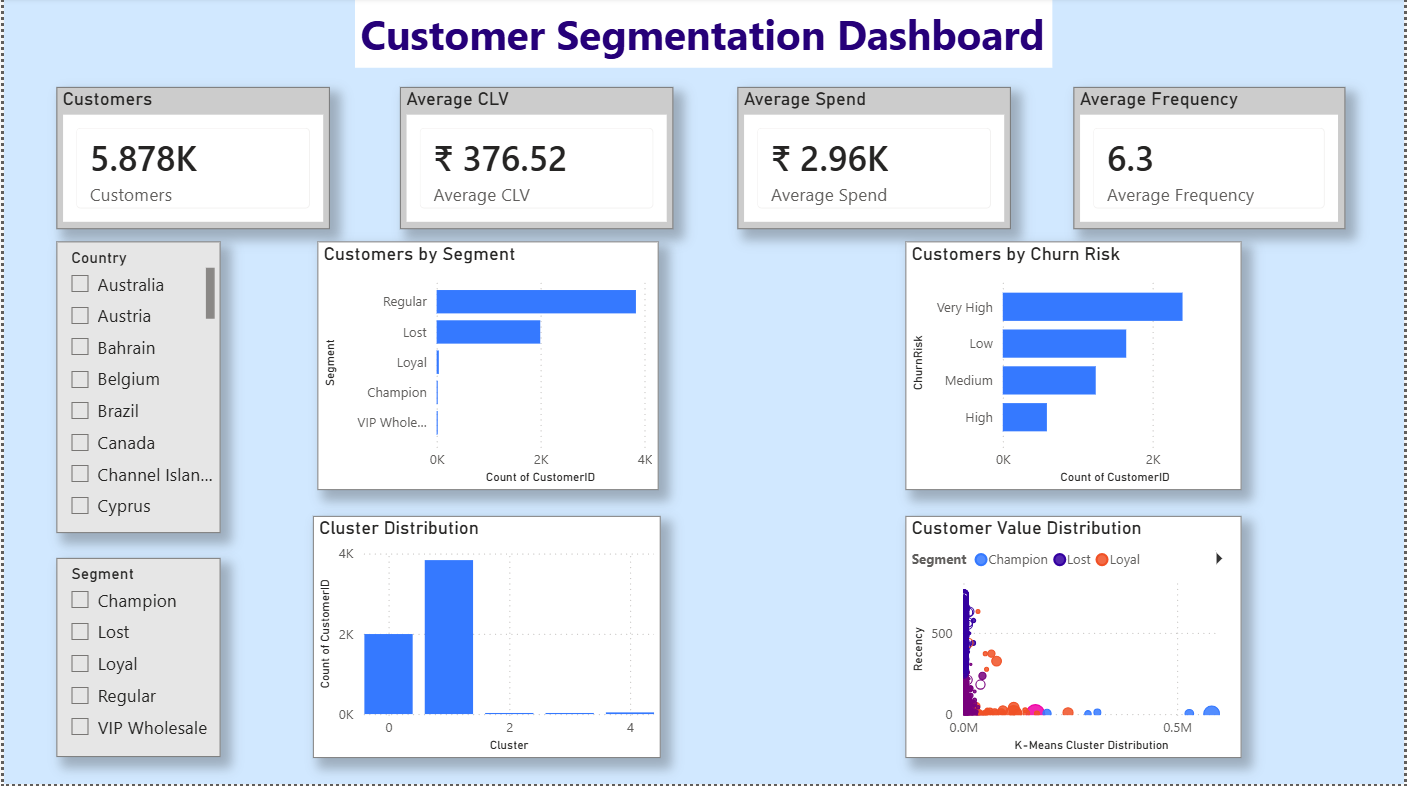

The dashboard page shown, as its layout file describes it:
{"tool":"powerbi","page":{"name":"Segmentation Dashboard","canvas":[1280,720],"ordinal":1},"visuals":[{"type":"cardVisual","title":"Customers","fields":{"Data":["Count(customer_segments.CustomerID)"]},"box":[48.5,81.8,250,130.3],"z":0},{"type":"cardVisual","title":"Average CLV","fields":{"Data":["Avg(customer_segments.CustomerLifetimeValue)"]},"box":[362.1,81.8,250,130.3],"z":1000},{"type":"cardVisual","title":"Average Spend","fields":{"Data":["Avg(customer_segments.Monetary)"]},"box":[671.2,81.8,250,130.3],"z":2000},{"type":"cardVisual","title":"Average Frequency","fields":{"Data":["Avg(customer_segments.Frequency)"]},"box":[978.8,81.8,248.5,130.3],"z":3000},{"type":"clusteredBarChart","title":"Customers by Segment","fields":{"Category":["customer_segments.Segment"],"Y":["CountNonNull(customer_segments.CustomerID)"]},"box":[286.4,224.2,312.1,227.3],"z":4000},{"type":"clusteredColumnChart","title":"Cluster Distribution","fields":{"Category":["customer_segments.Cluster"],"Y":["CountNonNull(customer_segments.CustomerID)"]},"box":[283.3,474.2,318.2,221.2],"z":5000},{"type":"clusteredBarChart","title":"Customers by Churn Risk","fields":{"Category":["customer_segments.ChurnRisk"],"Y":["CountNonNull(customer_segments.CustomerID)"]},"box":[824.2,224.2,307.6,227.3],"z":6000},{"type":"textbox","box":[321.2,3,637.9,62.1],"z":7000},{"type":"slicer","fields":{"Values":["customer_segments.Country"]},"box":[48.5,224.2,150,266.7],"z":8000},{"type":"slicer","fields":{"Values":["customer_segments.Segment"]},"box":[48.5,513.6,150,181.8],"z":9000},{"type":"scatterChart","title":"Customer Value Distribution","fields":{"X":["Avg(customer_segments.Monetary)"],"Y":["Avg(customer_segments.Recency)"],"Series":["customer_segments.Segment"],"Size":["Avg(customer_segments.CustomerLifetimeValue)"],"Category":["customer_segments.CustomerID"]},"box":[824.2,474.2,307.6,221.2],"z":10000}]}

Visuals, with their boxes in screenshot pixels (x1, y1, x2, y2), scaled from the page's 1280x720 canvas onto the 1407x786 screenshot:
"Customers" cardVisual: {"left": 53, "top": 89, "right": 328, "bottom": 232}
"Average CLV" cardVisual: {"left": 398, "top": 89, "right": 673, "bottom": 232}
"Average Spend" cardVisual: {"left": 738, "top": 89, "right": 1013, "bottom": 232}
"Average Frequency" cardVisual: {"left": 1076, "top": 89, "right": 1349, "bottom": 232}
"Customers by Segment" clusteredBarChart: {"left": 315, "top": 245, "right": 658, "bottom": 493}
"Cluster Distribution" clusteredColumnChart: {"left": 311, "top": 518, "right": 661, "bottom": 759}
"Customers by Churn Risk" clusteredBarChart: {"left": 906, "top": 245, "right": 1244, "bottom": 493}
textbox: {"left": 353, "top": 3, "right": 1054, "bottom": 71}
slicer - customer_segments.Country: {"left": 53, "top": 245, "right": 218, "bottom": 536}
slicer - customer_segments.Segment: {"left": 53, "top": 561, "right": 218, "bottom": 759}
"Customer Value Distribution" scatterChart: {"left": 906, "top": 518, "right": 1244, "bottom": 759}
